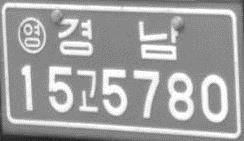0: (200, 73, 230, 124)
1: (17, 62, 39, 114)
5: (100, 66, 129, 117), (46, 63, 75, 113)
7: (131, 68, 161, 120)
8: (165, 70, 197, 120)
경남_D: (56, 14, 181, 62)
고: (74, 67, 100, 115)
영: (16, 16, 48, 55)
